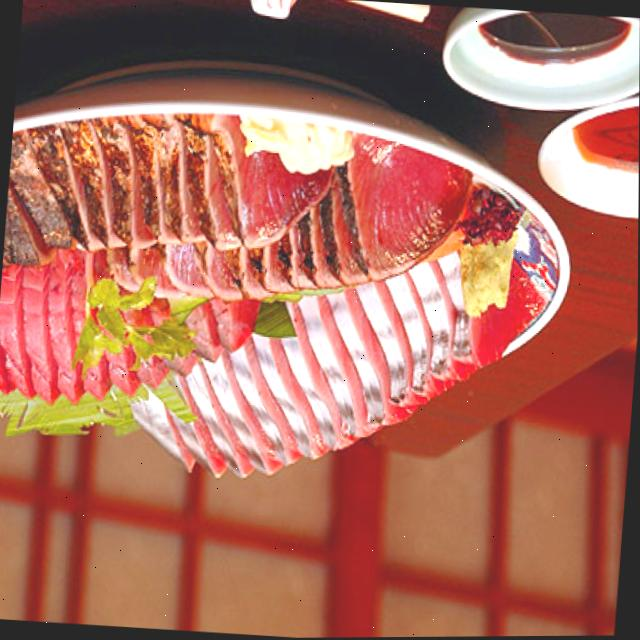熟制海鲜: (0, 61, 609, 536)
